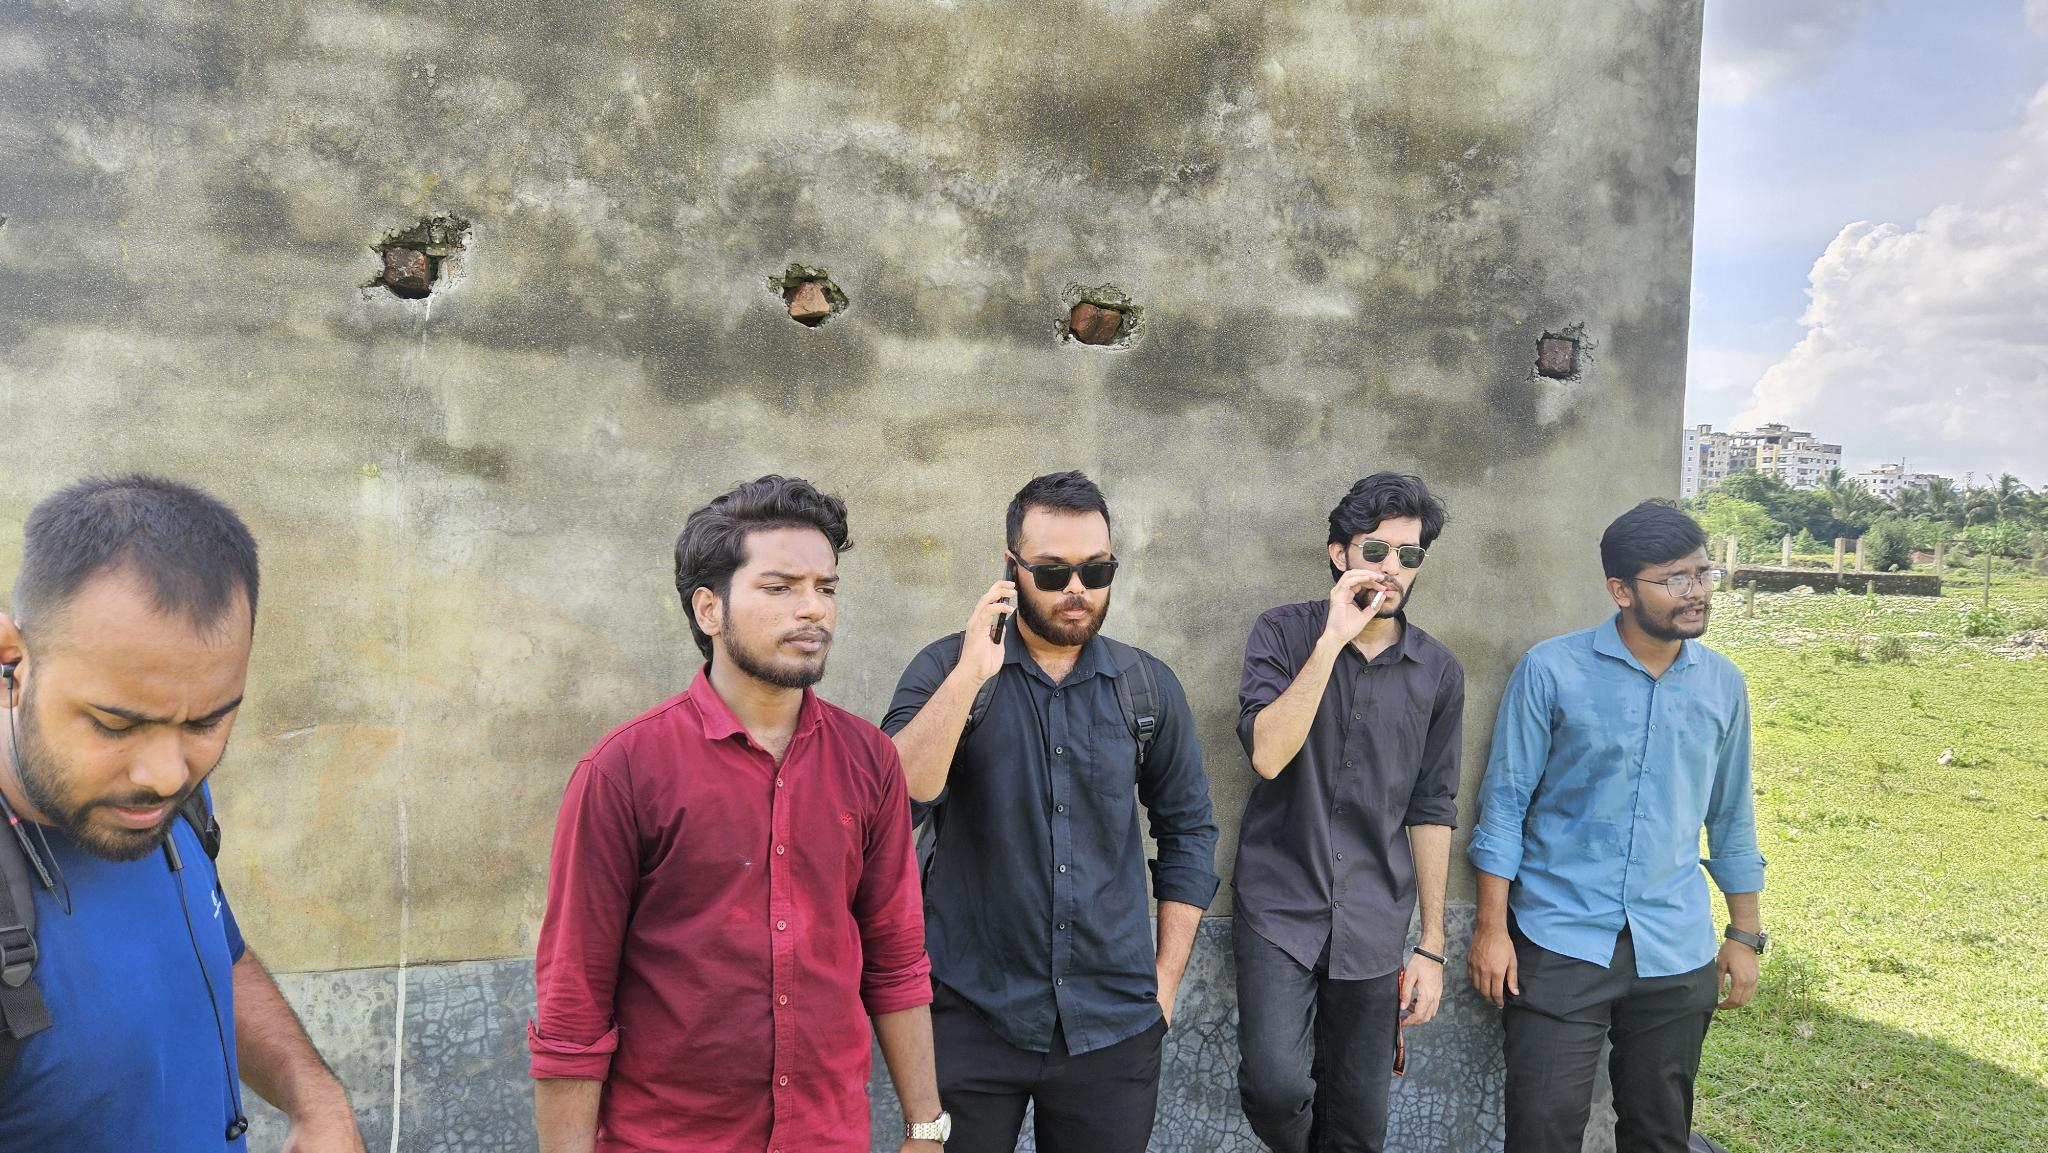cigarette: (1369, 589, 1385, 612)
nonSmoker: (523, 471, 955, 1153), (0, 467, 369, 1153), (882, 470, 1217, 1153), (1468, 495, 1769, 1153)
smoker: (1234, 463, 1464, 1153)
